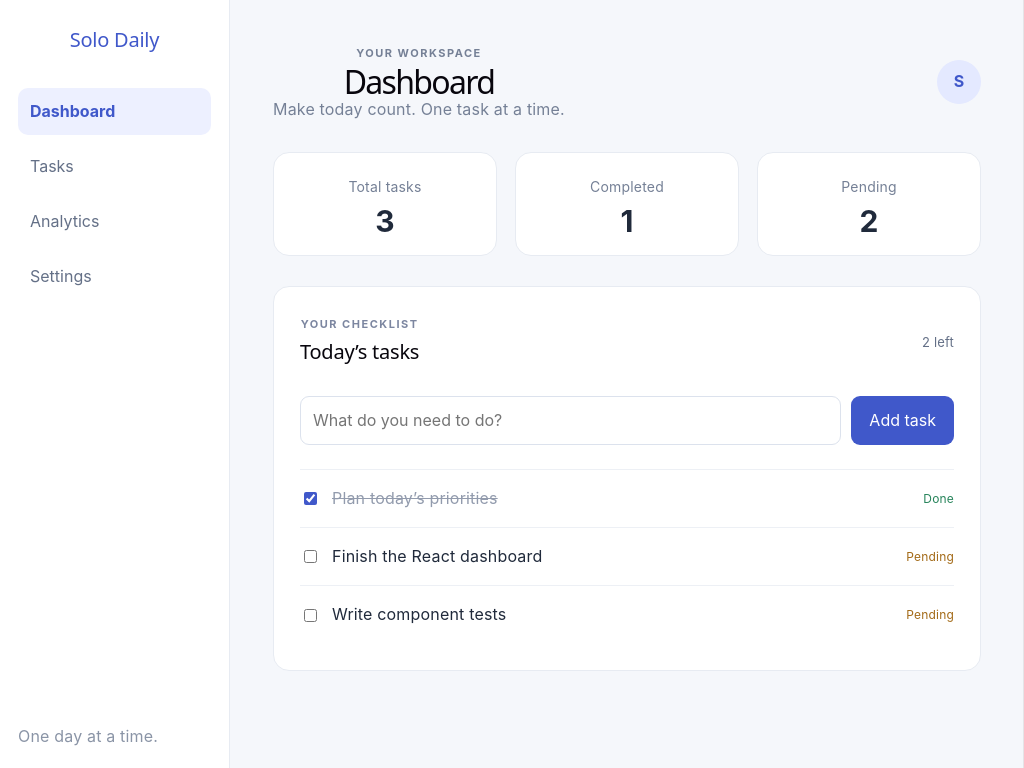
Test: Solo Daily dashboard › adds a new task
Type "Review pull request" into the field named "New task" at (571, 420), box x1=300 y1=396 x2=841 y2=445
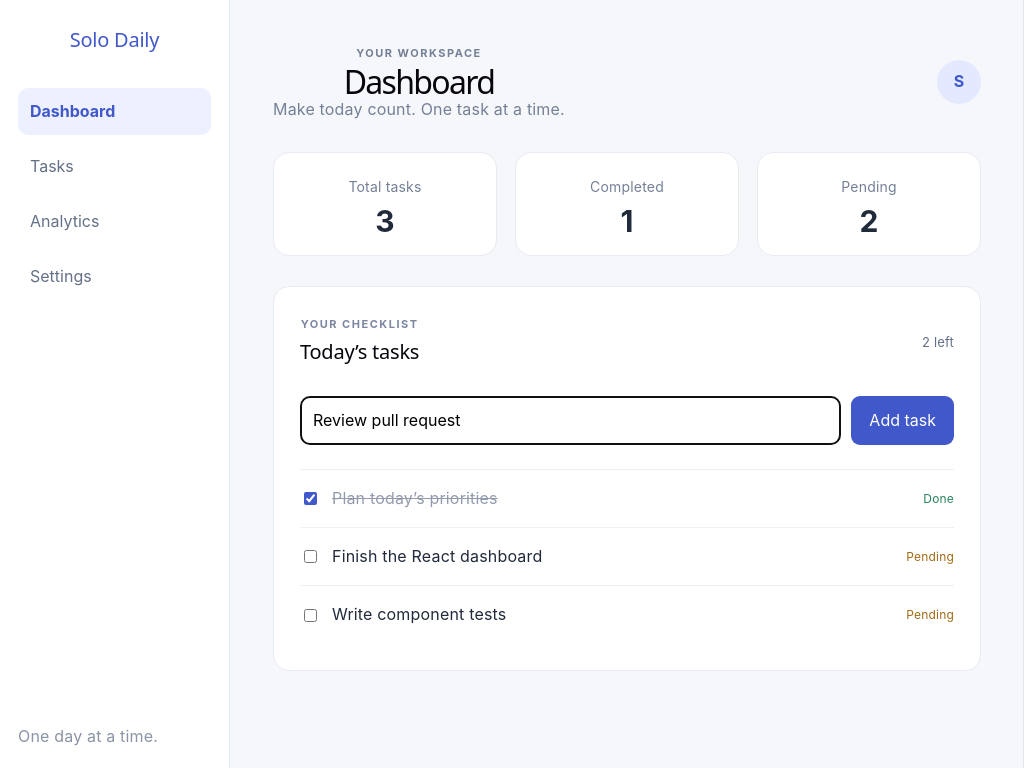
Click the button "Add task" at (903, 420), box x1=851 y1=396 x2=954 y2=445
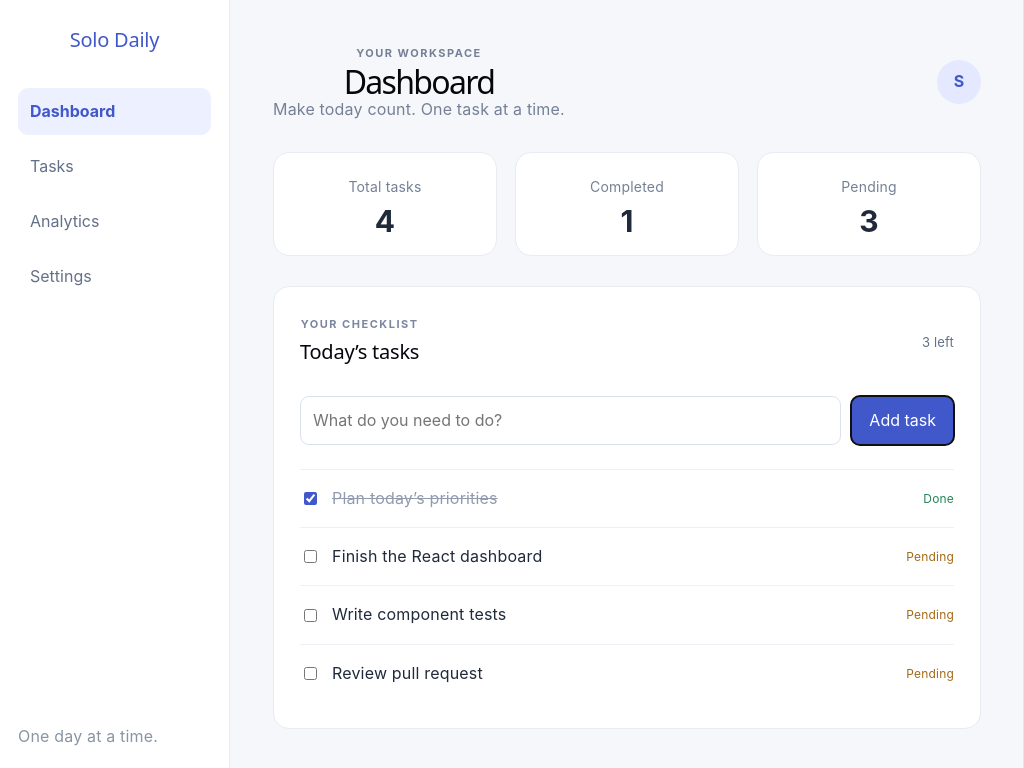
Check: the text "Review pull request" is shown, box x1=332 y1=662 x2=483 y2=685
Check: the field named "New task" is empty, box x1=300 y1=396 x2=841 y2=445
